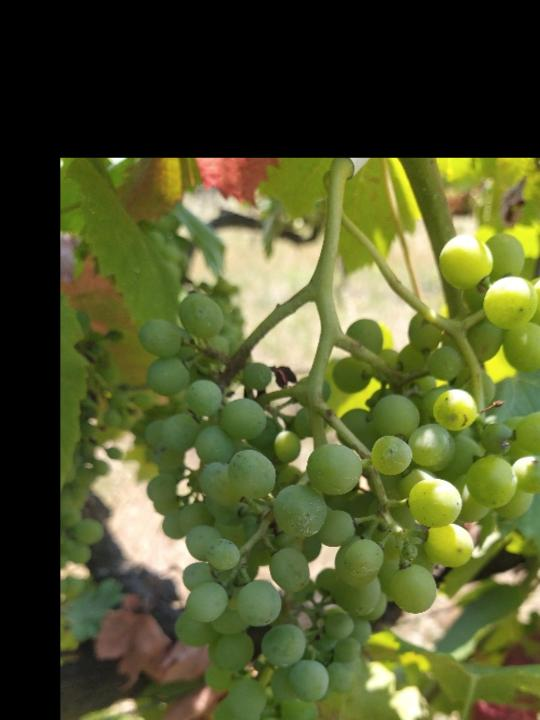grape: (137, 232, 540, 720)
